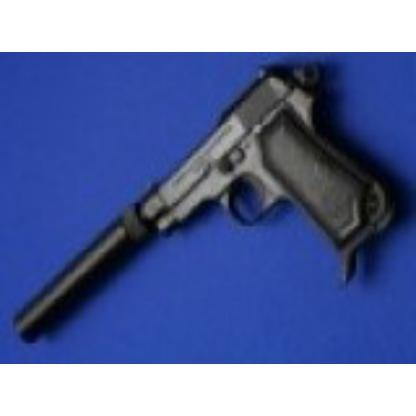gun: (30, 54, 396, 350)
